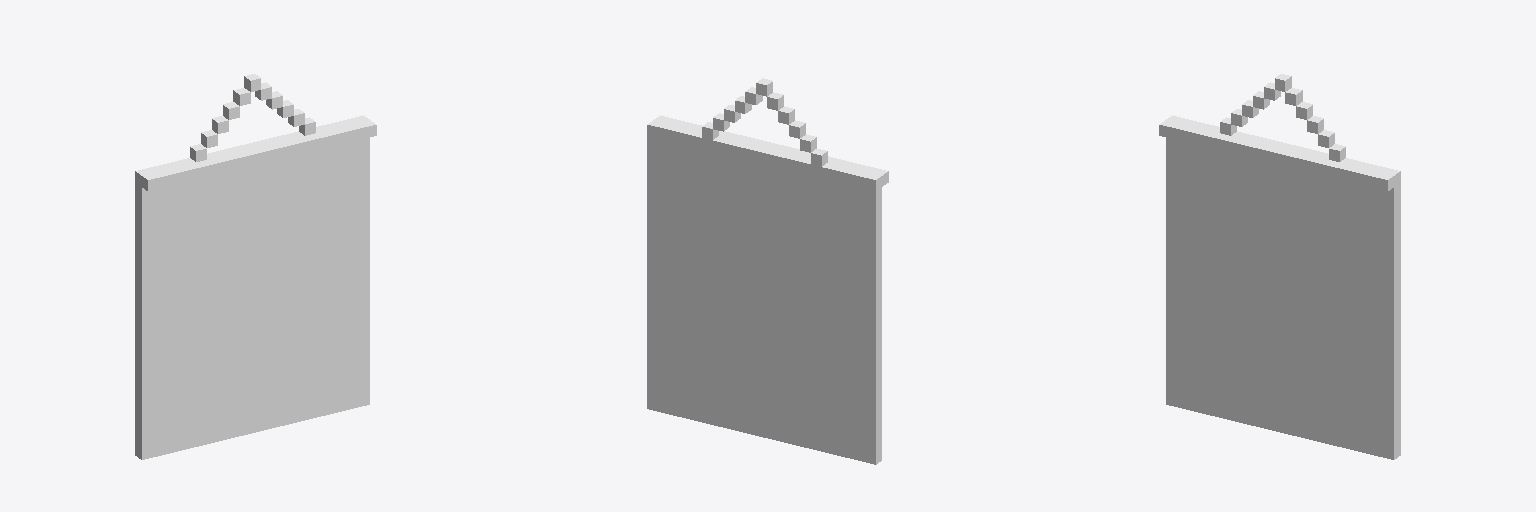
The model's file is calendrier.obj.
3 renders of one model, left to right at view 1: azimuth 30°, elevation 25°; view 2: azimuth 150°, elevation 25°; view 3: azimuth 330°, elevation 25°, orthographic.
Parts seen in each view (by area): view 1: object 1; view 2: object 1; view 3: object 1.
Boxes of the visible parts, x1,y1,x2,y2 form: object 1: [135, 74, 376, 459]; object 1: [647, 78, 888, 464]; object 1: [1159, 74, 1400, 459].
Bounding box in the file's own units: 2.1 × 3.1 × 0.2.